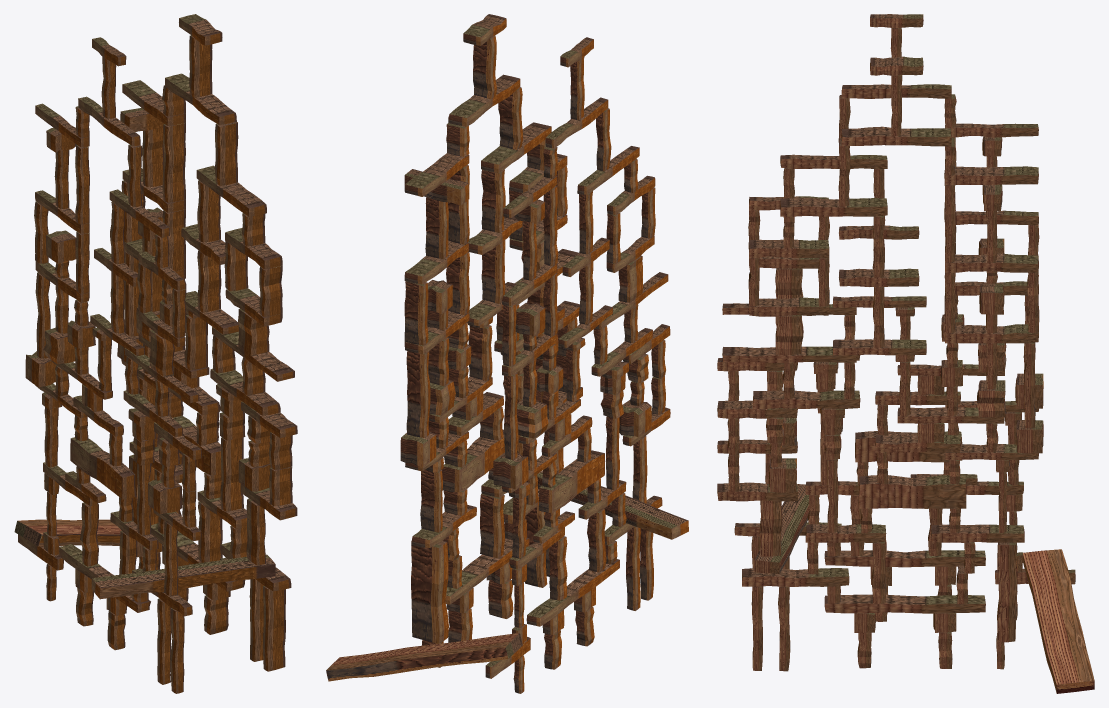
Rendered from M13_Dynamic1Wood_2kg.fbx.
3 renders of one model, left to right at view 1: azimuth 30°, elevation 25°; view 2: azimuth 150°, elevation 25°; view 3: azimuth 270°, elevation 25°, orthographic.
Parts seen in each view (by area): view 1: D1Box14, D1Box156, D1Box34, D1Box17, D1Box80, D1Box23, D1Box82, D1Box84, D1Box79, D1Box86, D1Box63, D1Box47 (+101 smaller); view 2: D1Box34, D1Box13, D1Box156, D1Box14, D1Box40, D1Box28, D1Box93, D1Box7, D1Box69, D1Box5, D1Box75, D1Box84 (+73 smaller); view 3: D1Box34, D1Box28, D1Box5, D1Box93, D1Box84, D1Box13, D1Box79, D1Box14, D1Box18, D1Box47, D1Box71, D1Box81 (+51 smaller).
Boxes of the visible parts, x1,y1,x2,y2 form: D1Box14: (91, 554, 275, 599); D1Box156: (70, 437, 136, 499); D1Box34: (14, 519, 121, 546); D1Box17: (262, 586, 285, 671); D1Box80: (162, 122, 185, 202); D1Box23: (220, 437, 243, 511); D1Box82: (214, 121, 238, 185); D1Box84: (165, 73, 236, 124); D1Box79: (196, 165, 266, 216); D1Box86: (189, 35, 212, 97); D1Box63: (197, 250, 221, 312); D1Box47: (210, 368, 280, 415); D1Box34: (326, 633, 522, 681); D1Box13: (411, 541, 448, 643); D1Box156: (539, 450, 604, 513); D1Box14: (537, 471, 688, 539); D1Box40: (406, 351, 430, 437); D1Box28: (442, 429, 504, 492); D1Box93: (526, 559, 619, 626); D1Box7: (480, 493, 504, 558); D1Box69: (404, 281, 428, 345); D1Box5: (445, 537, 529, 604); D1Box75: (481, 169, 505, 232); D1Box84: (448, 74, 520, 126); D1Box34: (1023, 549, 1094, 693); D1Box28: (859, 475, 966, 508); D1Box5: (824, 594, 985, 613); D1Box93: (824, 550, 985, 567); D1Box84: (841, 126, 951, 146); D1Box13: (997, 542, 1017, 642); D1Box79: (780, 197, 887, 216); D1Box14: (754, 484, 819, 573); D1Box18: (742, 568, 849, 586); D1Box47: (753, 390, 860, 408); D1Box71: (722, 346, 856, 362); D1Box81: (945, 166, 1038, 184).
Size of what is drawn, in the model's own units: 18.85 by 49.67 by 28.1.
